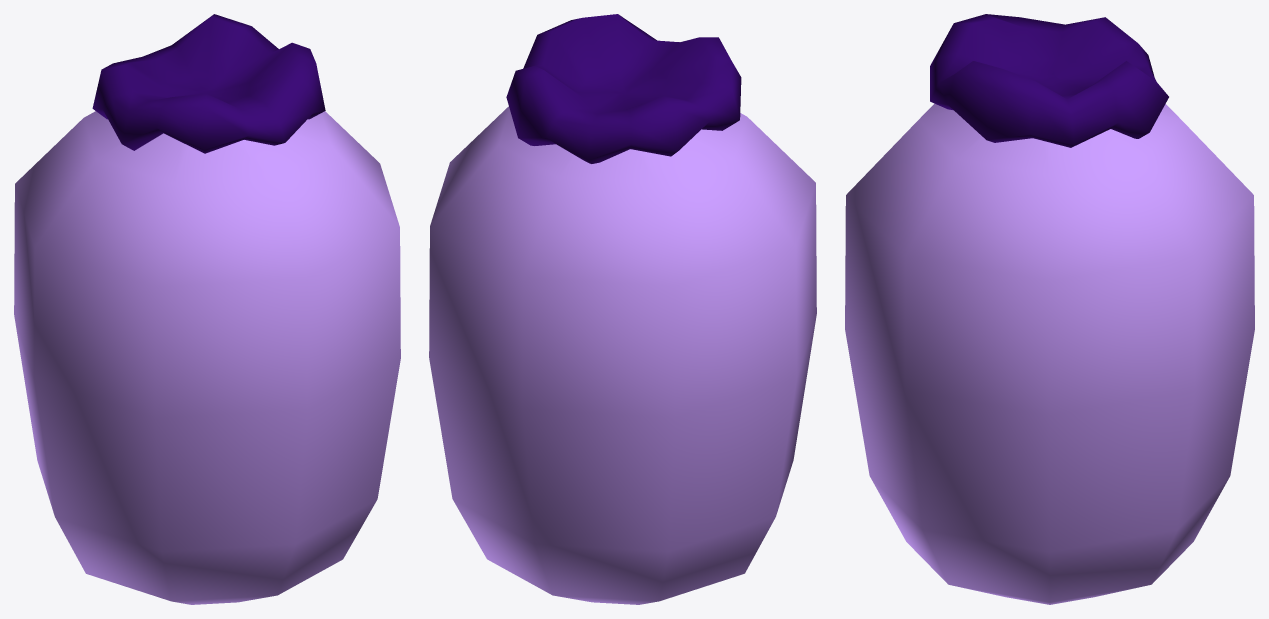
File: Coral_27.fbx
3 renders of one model, left to right at view 1: azimuth 30°, elevation 25°; view 2: azimuth 150°, elevation 25°; view 3: azimuth 270°, elevation 25°, orthographic. The views are drawn at different scales.
Parts seen in each view (by area): view 1: Coral_27; view 2: Coral_27; view 3: Coral_27.
Part boxes in pixels (x1,y1,x2,y2): Coral_27: (14, 14, 400, 604); Coral_27: (429, 14, 816, 604); Coral_27: (845, 14, 1254, 604).
Size of the model in its own units: 38.18 by 55.59 by 38.18.
